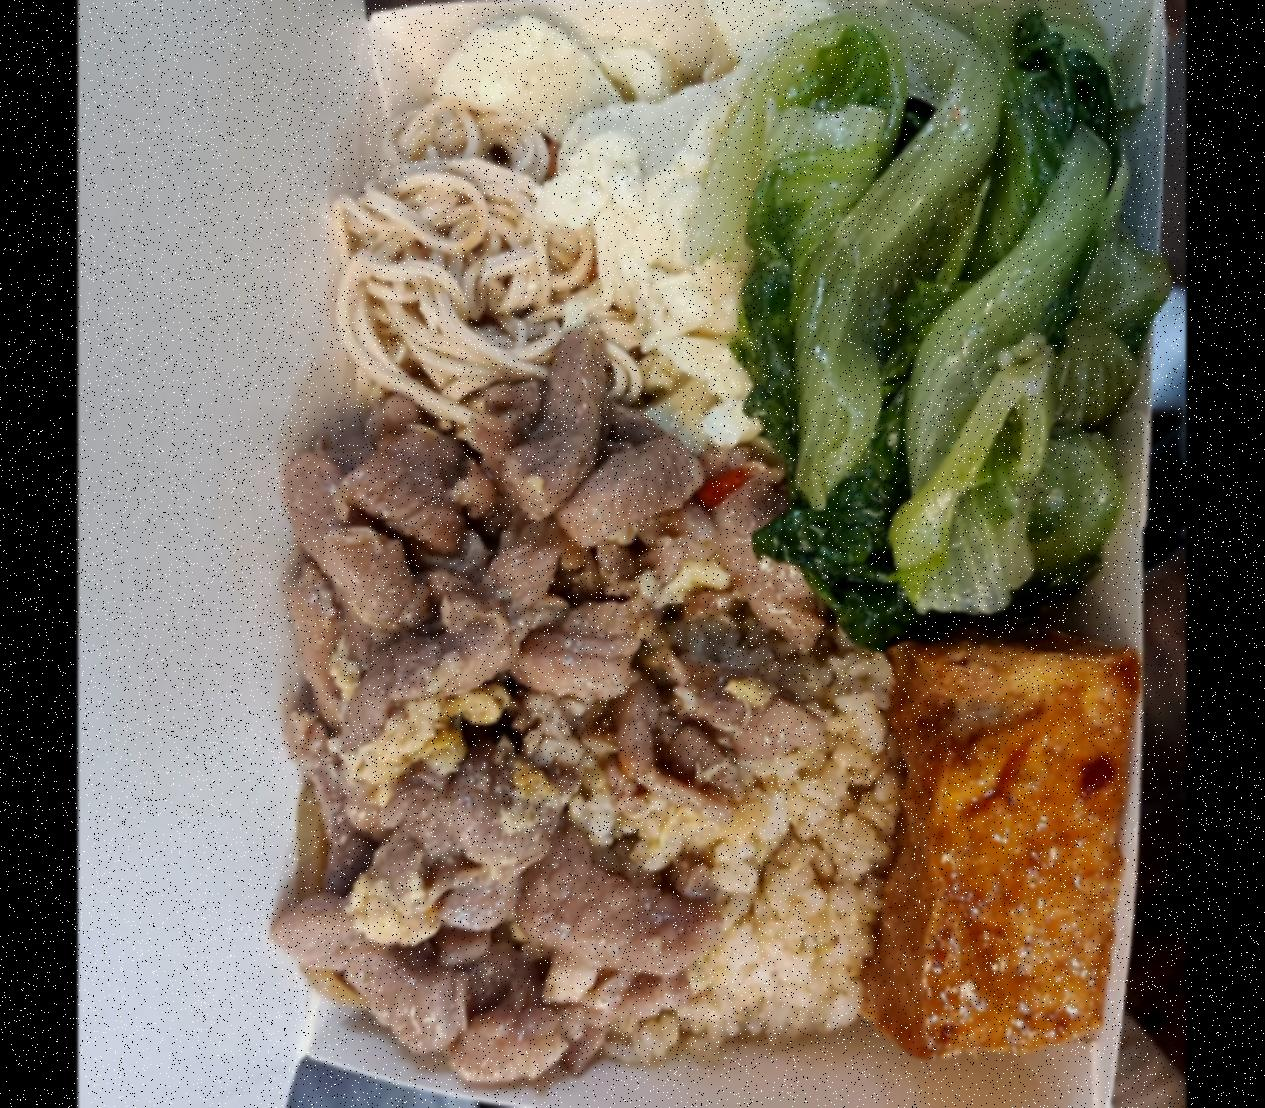box: (244, 0, 1171, 1108)
brown rice: (313, 467, 905, 1049)
pork with scrambled eggs: (292, 421, 758, 1031)
side dish: (771, 11, 1139, 587), (875, 607, 1135, 1074), (316, 90, 580, 413), (564, 9, 771, 397)
